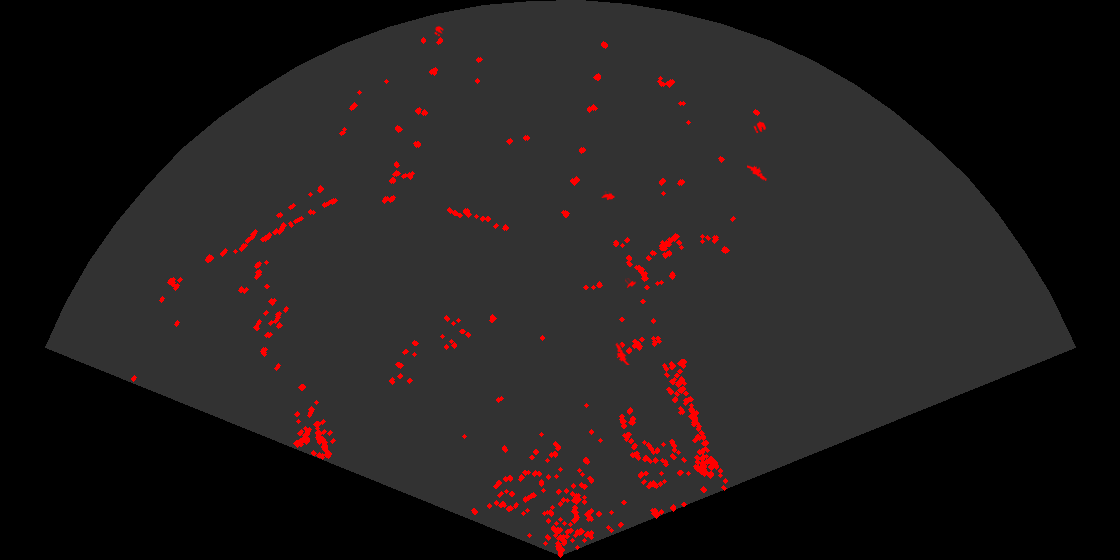AUV: (600, 191, 616, 202), (625, 278, 638, 290)
ball: (752, 120, 768, 135), (433, 24, 445, 38)
frogman: (747, 163, 769, 181), (614, 342, 631, 365)
